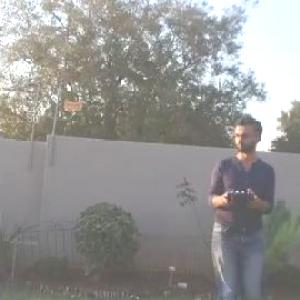follow: (203, 111, 279, 299)
